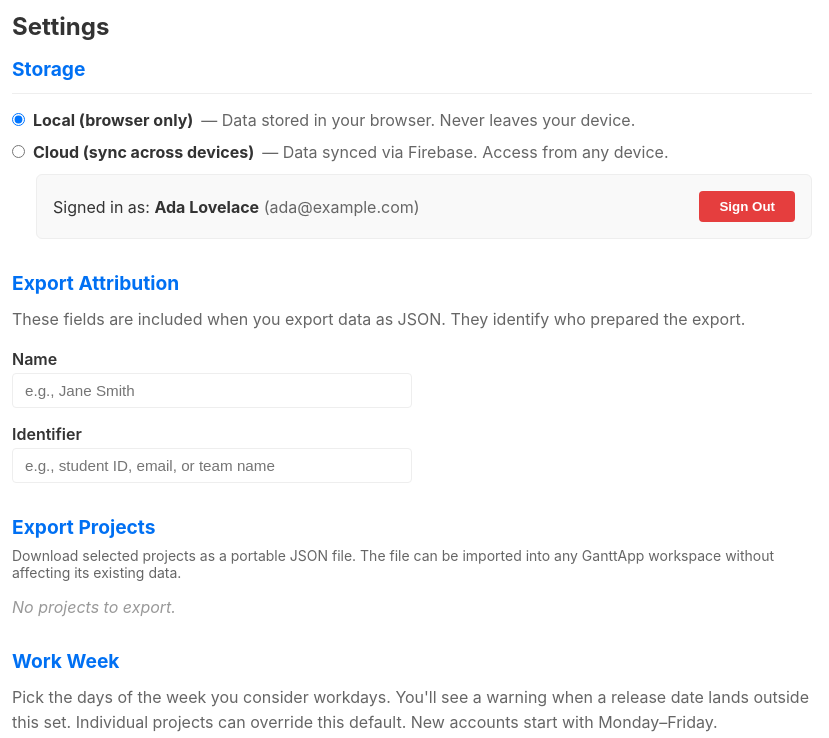
Scenario: SettingsTab wiring › signing out › clears the message from a failed sign-out when Sign Out is pressed again
Click the button "Sign Out": x=747, y=206 [700,191,795,222]
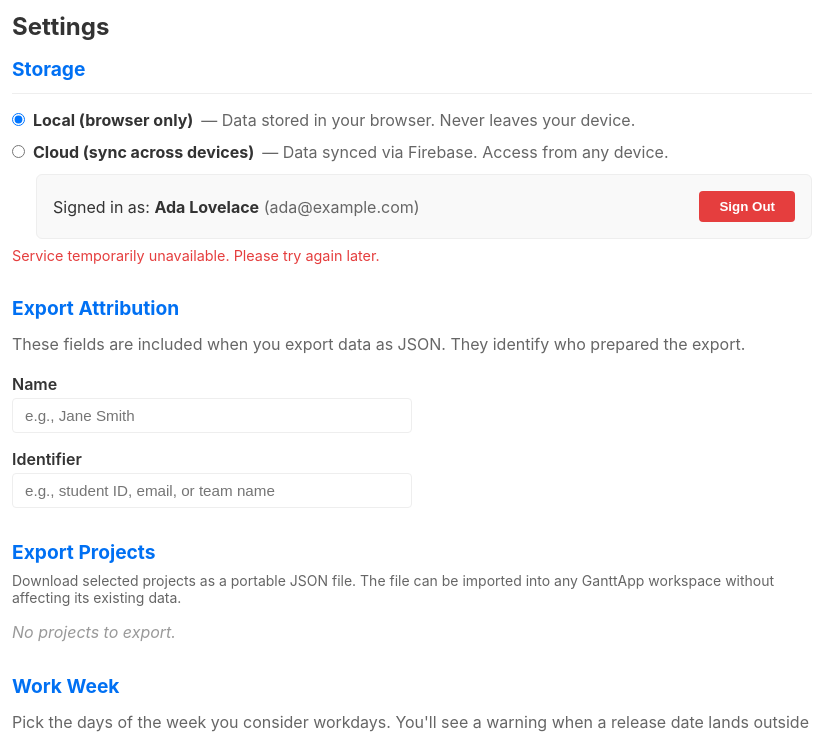
Now the text "Service temporarily unavailable. Please try again later." is shown, box [12,247,380,264]
Click the button "Sign Out": x=747, y=206 [700,191,795,222]
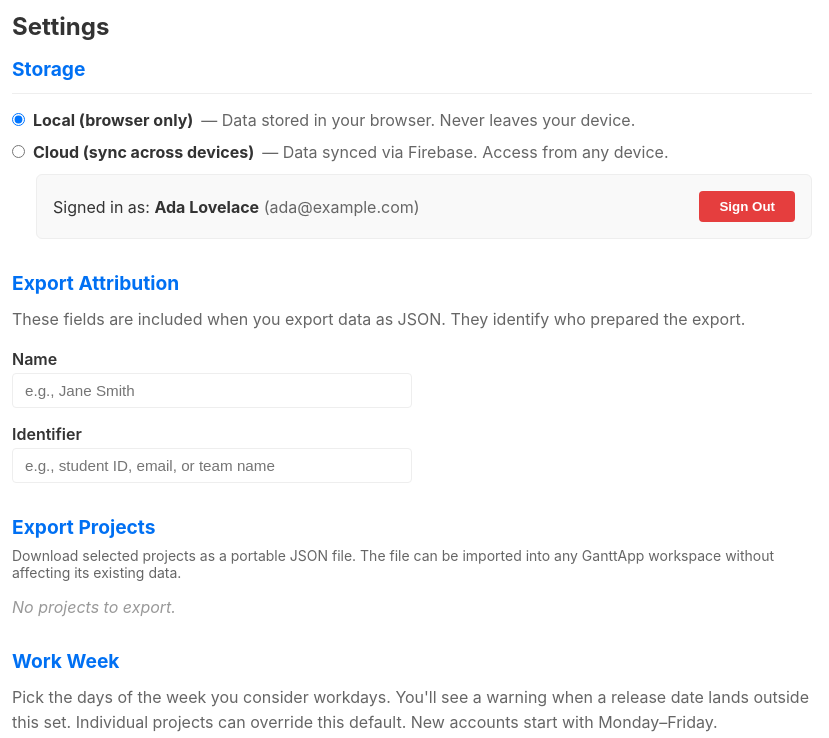
Now the text "Service temporarily unavailable. Please try again later." is gone
